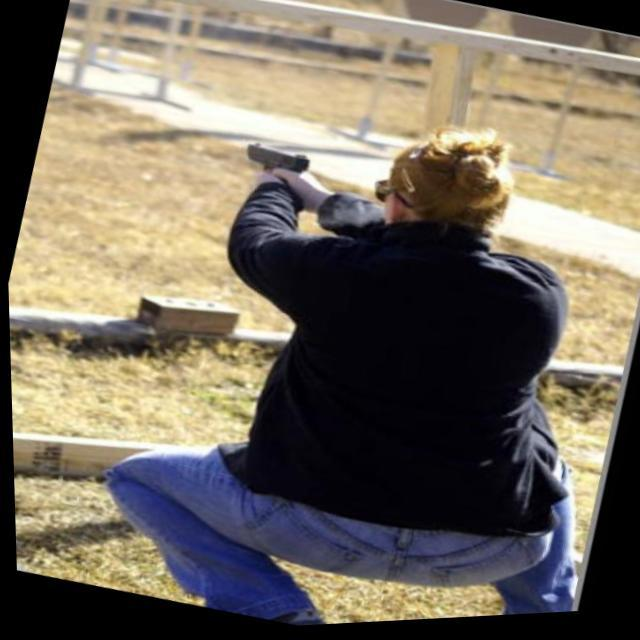weapon: (236, 139, 318, 198)
